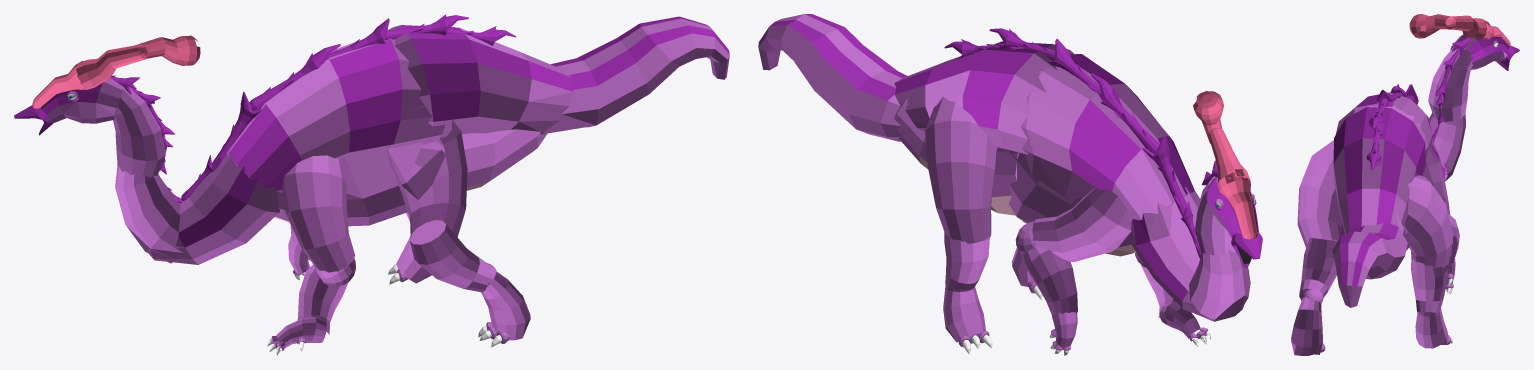
File: monsterolophus-by-hoai-nguyen-6ybhT9b43Ys.glb
The picture shows the model from 3 angles, left to right: view 1: azimuth 30°, elevation 25°; view 2: azimuth 150°, elevation 25°; view 3: azimuth 270°, elevation 25°; orthographic projection. The views are drawn at different scales.
Parts seen in each view (by area): view 1: group1607130943, group1106147096, group394331565, group964649732, group380975423, group346224055, group26496871, group932663978, group1906922818, group750181488, group1249672330, group231068197 (+12 smaller); view 2: group1607130943, group394331565, group1106147096, group250015805, group964649732, group348045302, group26496871, group346224055, group2029223037, group750181488, group296292260, group908416826 (+16 smaller); view 3: group1106147096, group394331565, group250015805, group932663978, group1249672330, group1906922818, group296292260, group286094293, group26496871, group1607130943, group908416826, group231068197 (+11 smaller).
Part boxes in pixels (x1,y1,x2,y2): group1607130943: (227,39,444,190); group1106147096: (388,25,573,137); group394331565: (543,16,729,133); group964649732: (148,151,279,264); group380975423: (282,155,355,272); group346224055: (274,142,445,226); group26496871: (115,165,182,263); group932663978: (387,104,467,239); group1906922818: (410,220,490,292); group750181488: (414,129,546,190); group1249672330: (113,86,165,177); group231068197: (41,78,123,123); group1607130943: (1021,54,1194,221); group394331565: (758,14,907,141); group1106147096: (894,41,1074,154); group250015805: (925,96,997,243); group964649732: (1131,187,1244,321); group348045302: (1032,187,1131,262); group26496871: (1189,249,1250,320); group346224055: (1007,150,1136,256); group2029223037: (1022,246,1077,314); group750181488: (894,99,1018,215); group296292260: (944,232,989,290); group908416826: (943,285,985,342); group1106147096: (1333,105,1425,233); group394331565: (1332,223,1407,307); group250015805: (1404,175,1453,268); group932663978: (1297,140,1341,248); group1249672330: (1428,47,1473,121); group1906922818: (1299,237,1337,300); group296292260: (1411,258,1448,312); group286094293: (1291,297,1322,355); group26496871: (1429,112,1465,181); group1607130943: (1335,92,1432,176); group908416826: (1415,308,1448,348); group231068197: (1450,34,1509,69).
Size of the model in its own units: 1.36 by 0.665 by 0.5585.
